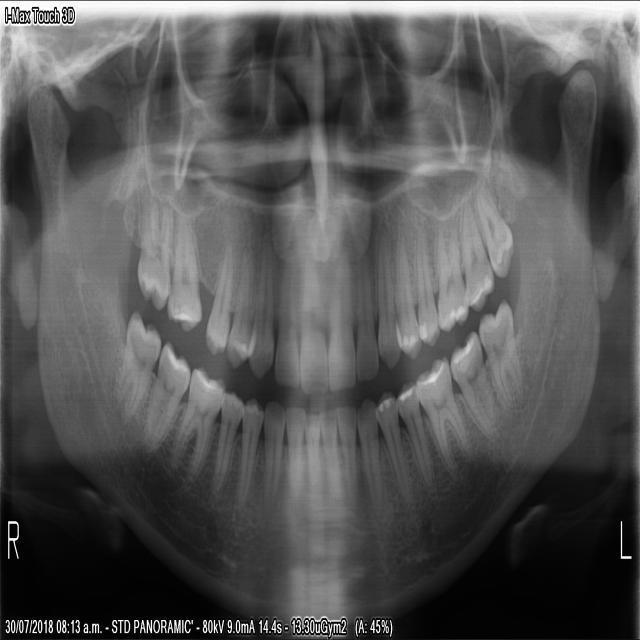LCD: (354, 391, 384, 517)
LCU: (374, 219, 402, 374)
LID: (332, 397, 358, 504), (317, 400, 340, 504)
LIU: (325, 248, 358, 401), (353, 248, 378, 386)
LMD: (413, 347, 472, 478), (444, 321, 500, 444), (475, 290, 526, 412)
LMU: (430, 209, 470, 337), (457, 190, 495, 317), (473, 175, 515, 284)
LPMD: (394, 376, 436, 494), (371, 381, 410, 508)
LPMU: (393, 222, 421, 364), (413, 214, 440, 350)
RCD: (259, 394, 285, 508)
RCU: (245, 234, 275, 382)
RID: (282, 402, 306, 502), (299, 405, 323, 503)
RIU: (296, 246, 330, 401), (270, 250, 300, 395)
RMD: (167, 359, 228, 486), (111, 299, 162, 425), (141, 333, 192, 458)
RMU: (133, 182, 173, 316), (164, 204, 204, 335)
RPMD: (207, 385, 245, 497), (232, 392, 264, 517)
RPMU: (200, 230, 235, 360), (224, 242, 256, 376)
